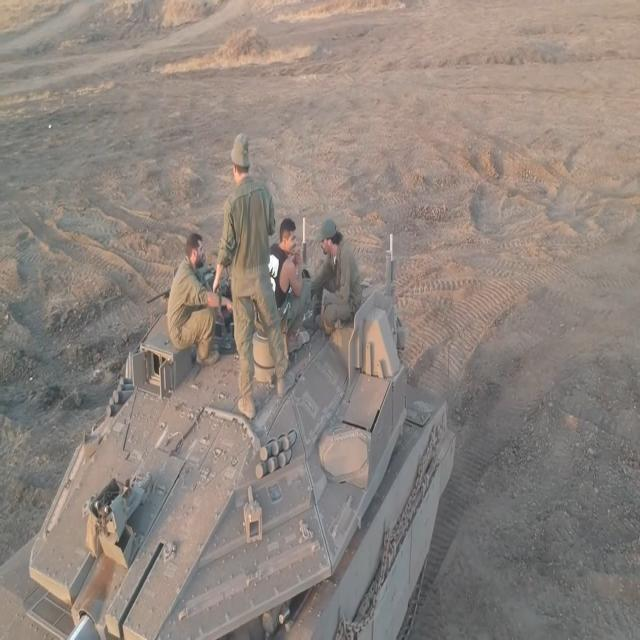tank: (0, 225, 452, 640)
